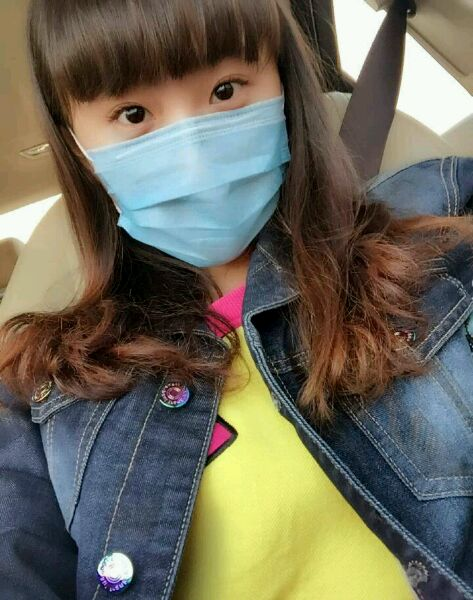face_mask: (73, 0, 287, 260)
